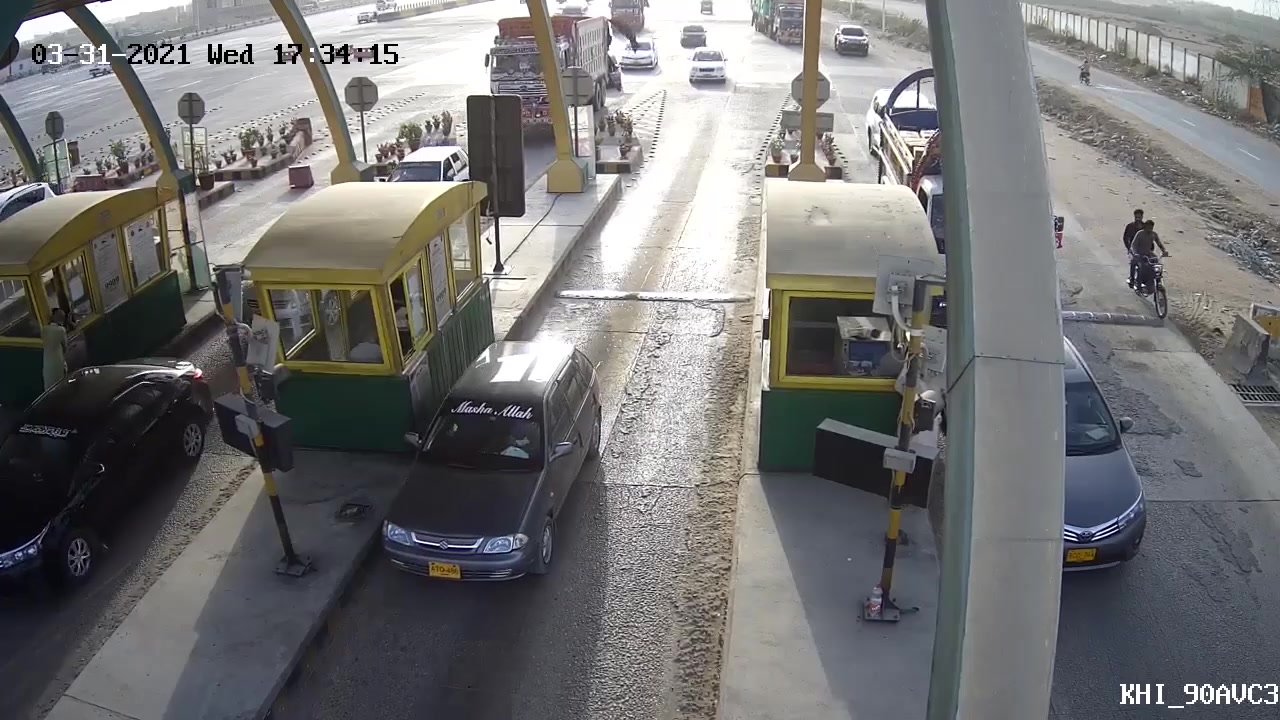F1: (383, 334, 608, 590)
